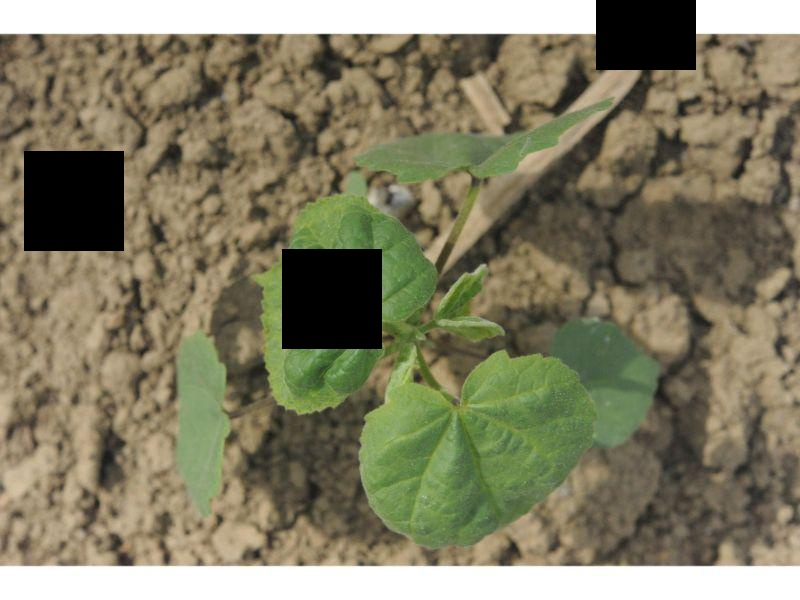velvet: (174, 96, 659, 545)
